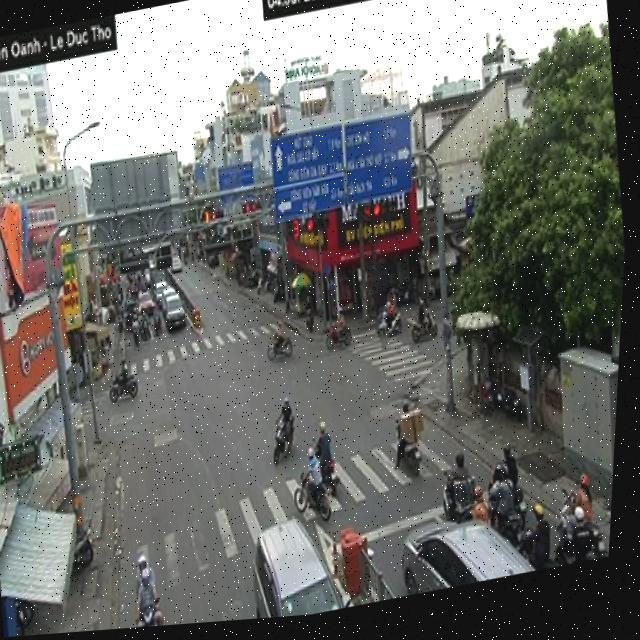Red: (306, 216, 335, 241), (372, 205, 401, 226), (213, 210, 229, 225), (252, 203, 264, 217)
